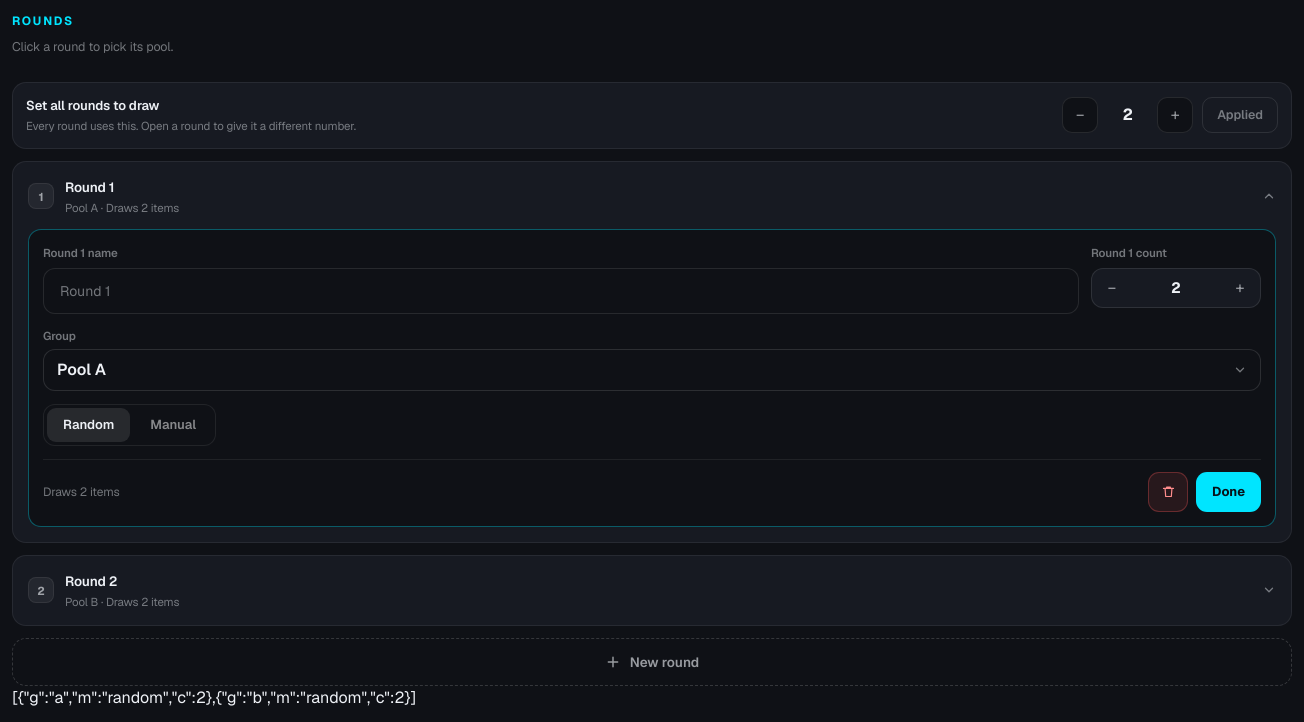
Test: RoundsEditor progressive disclosure (T6) › auto-expands a newly added round
Click the button "New round" at (652, 662), box [12, 638, 1292, 686]
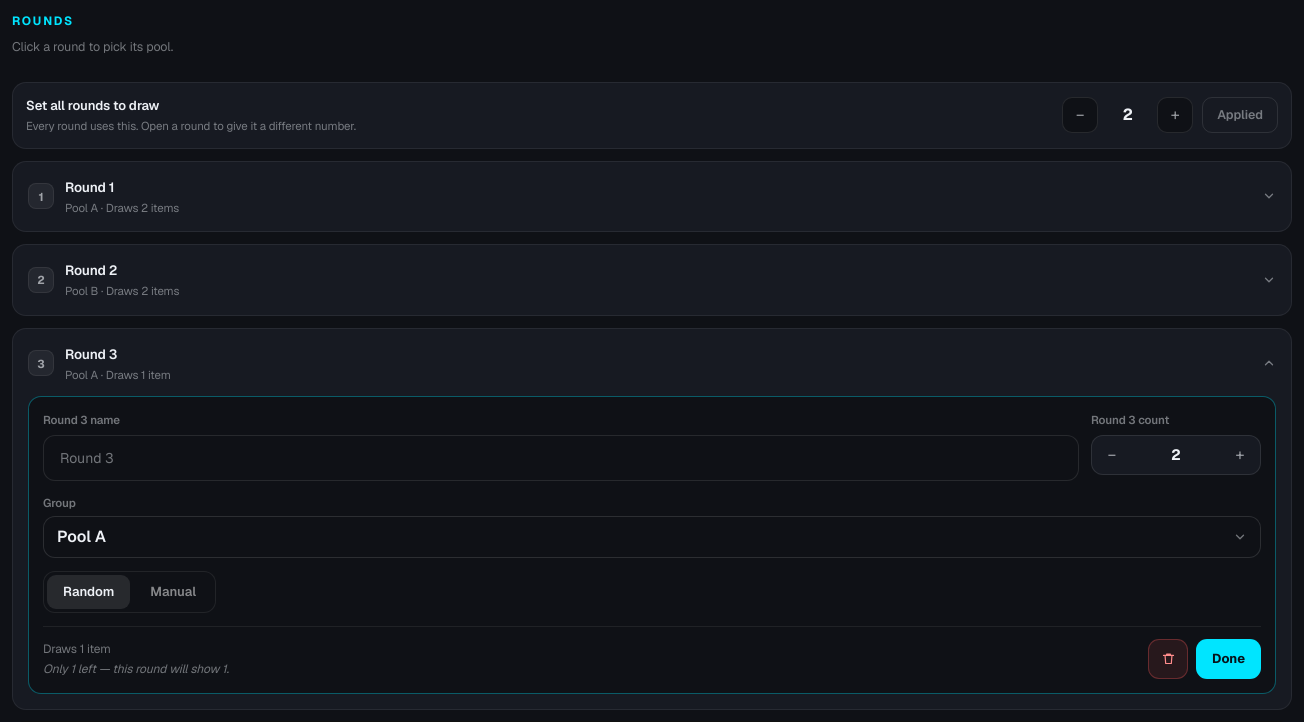
expect the dropdown named "Round 3 pool" is shown: met, box [43, 516, 1261, 558]
